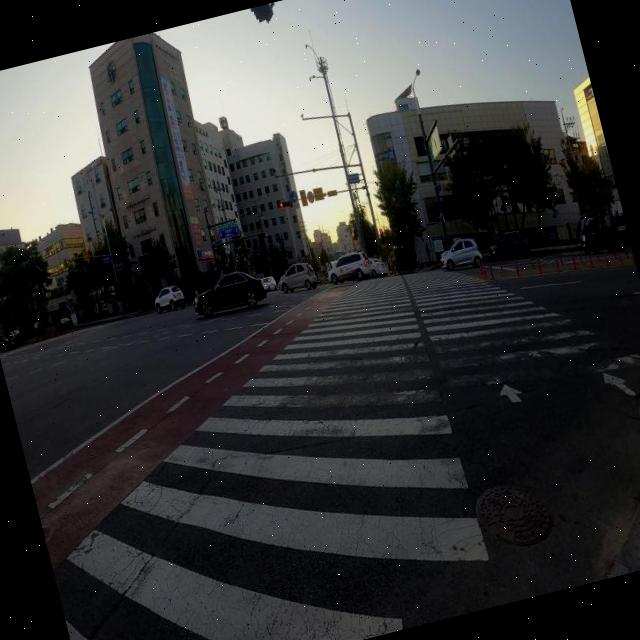crosswalk: (52, 266, 640, 640)
